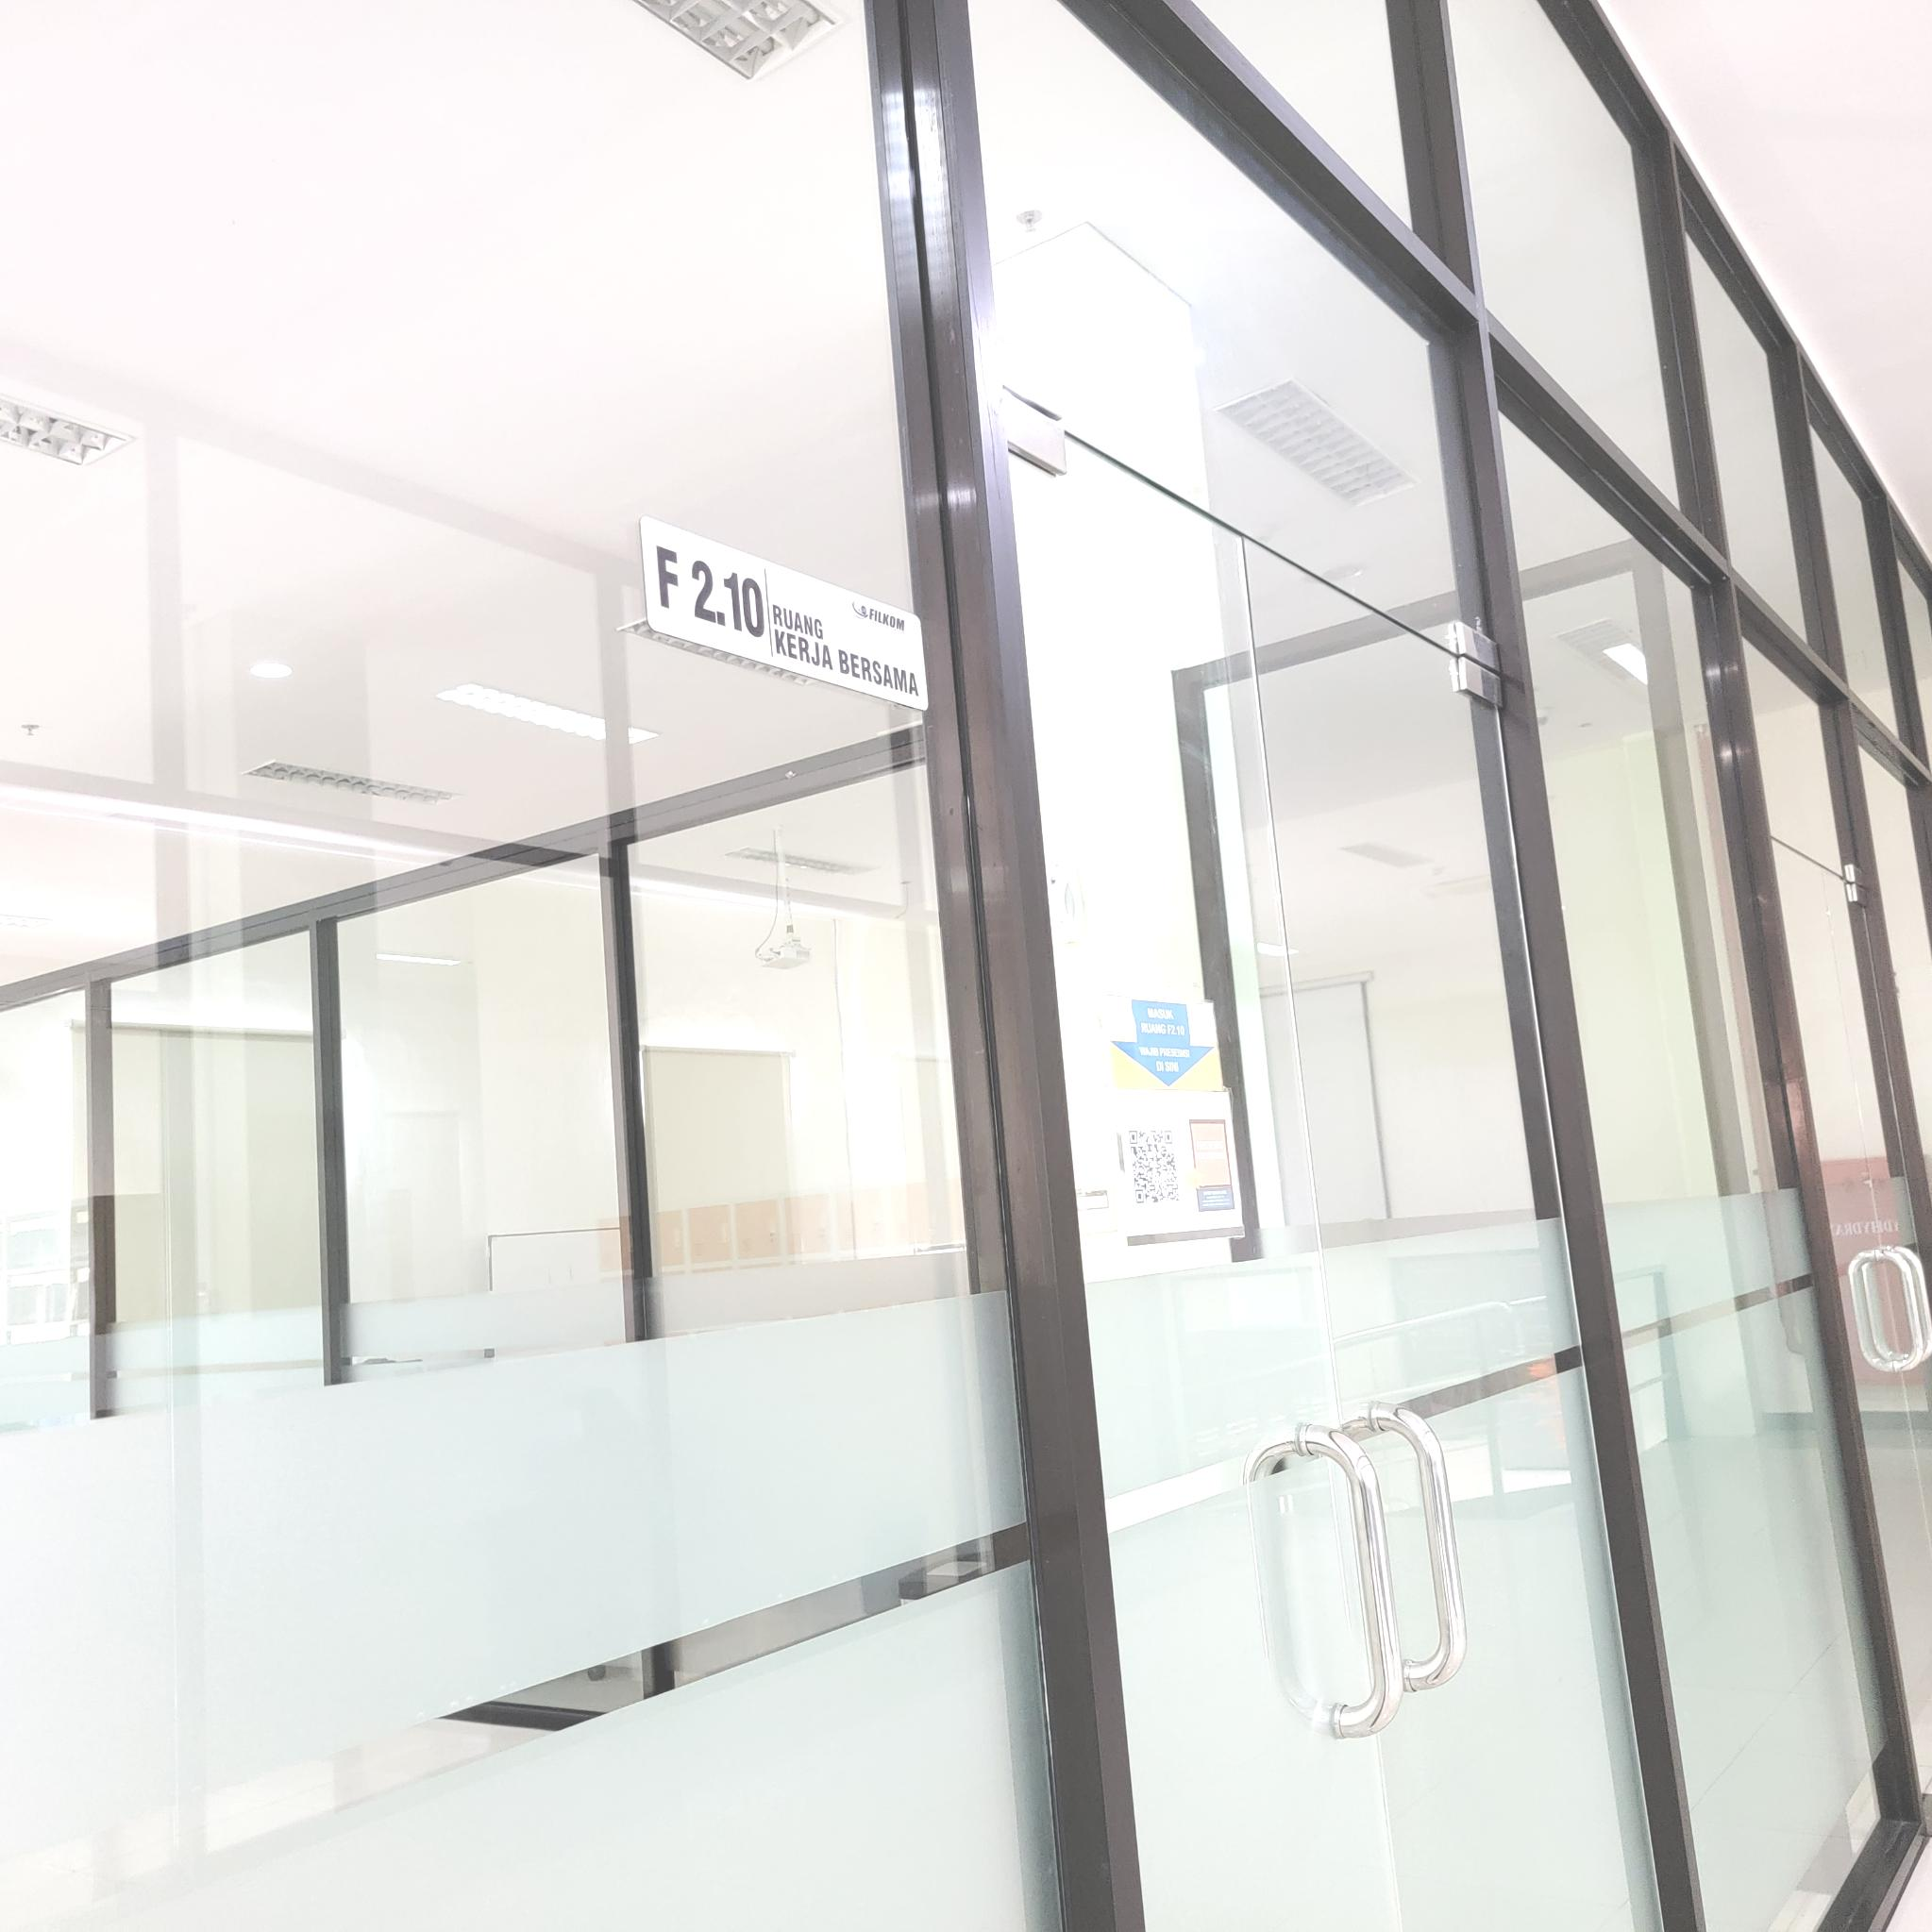plate: (640, 510, 934, 715)
